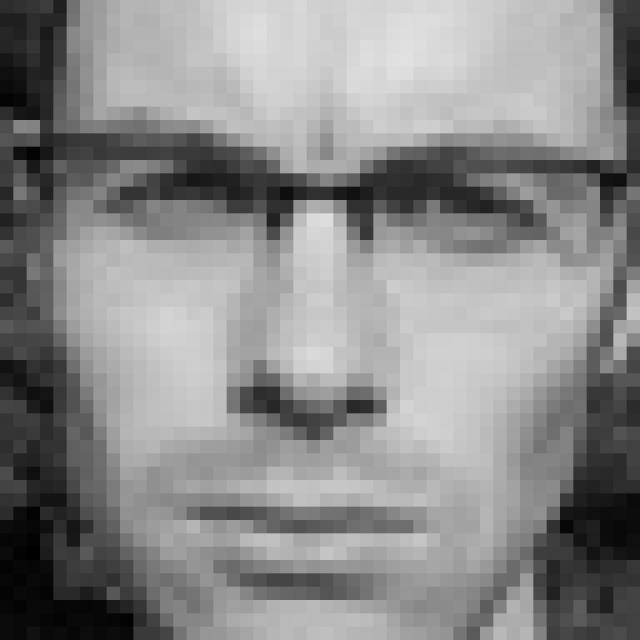neutral: (76, 119, 550, 610)
